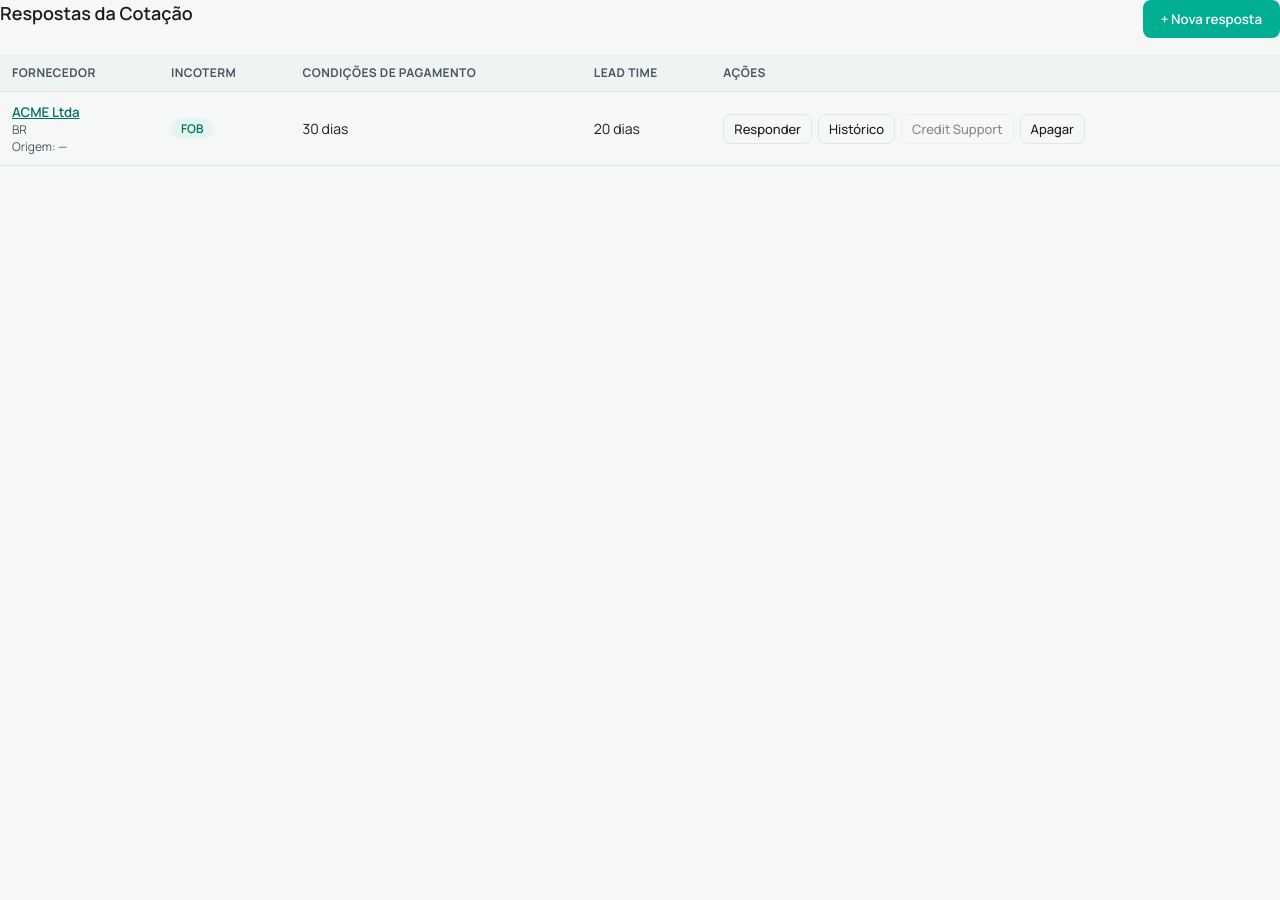
it: RespostasTab › 3. clicar no nome do fornecedor abre o pop-up de itens com fallback (resposta manual sem items)
The image size is (1280, 900).
Click the button "ACME Ltda" at coordinates (46, 112), box [12,103,80,121]
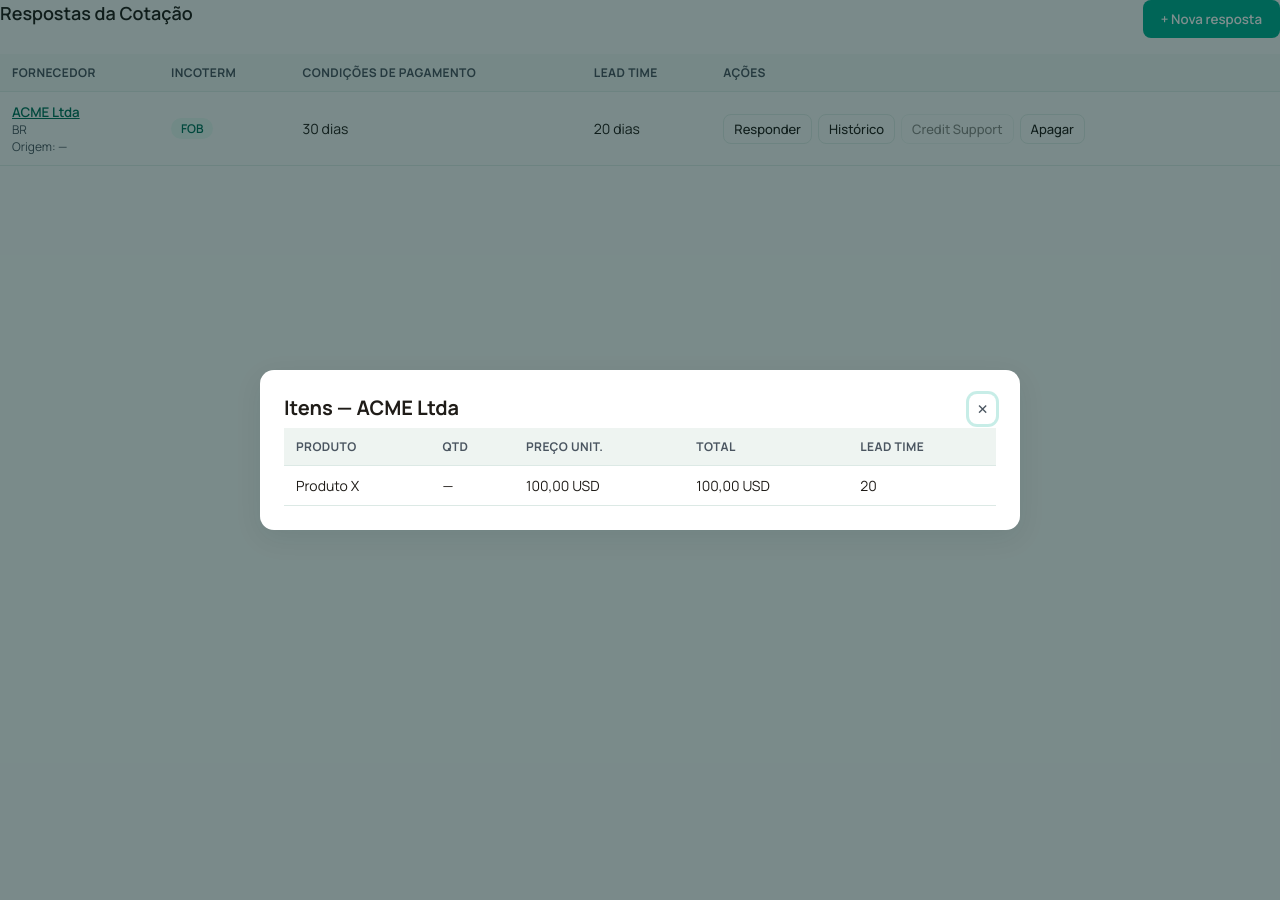
Expected: the heading "Itens — ACME Ltda" is shown, [284,394,459,421]
Expected: the text "Produto X" is shown, [284,466,430,506]
Expected: the text "100,00 USD" is shown 2 times, [514,466,684,506]; [684,466,848,506]
